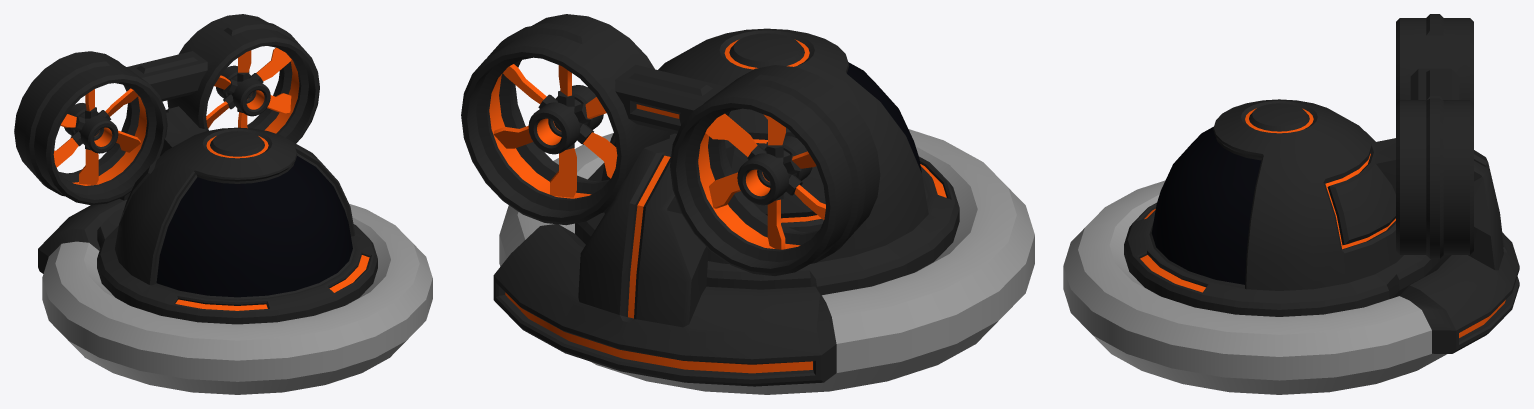
File: Me_HoverCraft.FBX
3 renders of one model, left to right at view 1: azimuth 30°, elevation 25°; view 2: azimuth 150°, elevation 25°; view 3: azimuth 270°, elevation 25°, orthographic. The views are drawn at different scales.
Visible parts, largest first — view 1: Cylinder002, Prop_R, Prop_R001; view 2: Cylinder002, Prop_R001, Prop_R; view 3: Cylinder002.
Part boxes in pixels (box(x1,y1,x2,y2)): Cylinder002: box(14, 14, 432, 394); Prop_R: box(53, 88, 140, 184); Prop_R001: box(206, 47, 291, 128); Cylinder002: box(461, 14, 1034, 394); Prop_R001: box(493, 64, 617, 197); Prop_R: box(705, 113, 825, 249); Cylinder002: box(1063, 14, 1519, 394).
Bounding box in the file's own units: 55.51 × 35.5 × 58.62.
